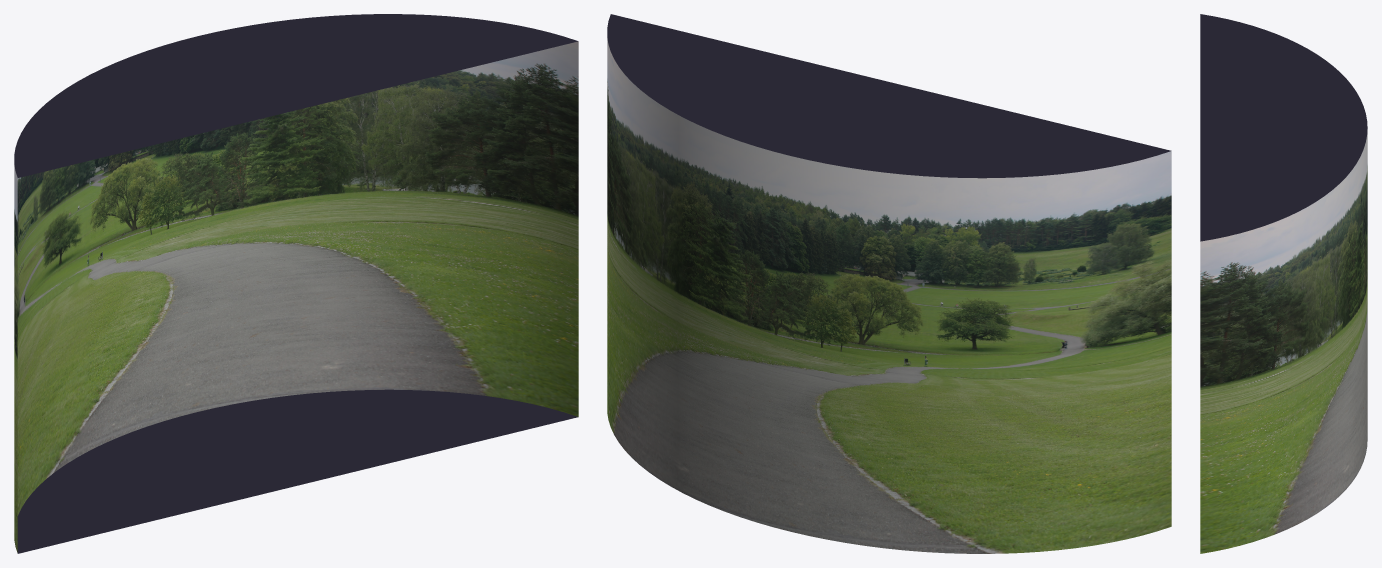
The model's file is weg.glb.
3 renders of one model, left to right at view 1: azimuth 30°, elevation 25°; view 2: azimuth 150°, elevation 25°; view 3: azimuth 270°, elevation 25°, orthographic. The views are drawn at different scales.
Visible parts, largest first — view 1: root; view 2: root; view 3: root.
Boxes of the visible parts, bbox=[...] form: root: bbox=[14, 14, 578, 553]; root: bbox=[607, 14, 1171, 553]; root: bbox=[1200, 14, 1367, 553].
Size of the model in its own units: 4.87 by 3.12 by 1.51.
2 materials, 1 textured.
